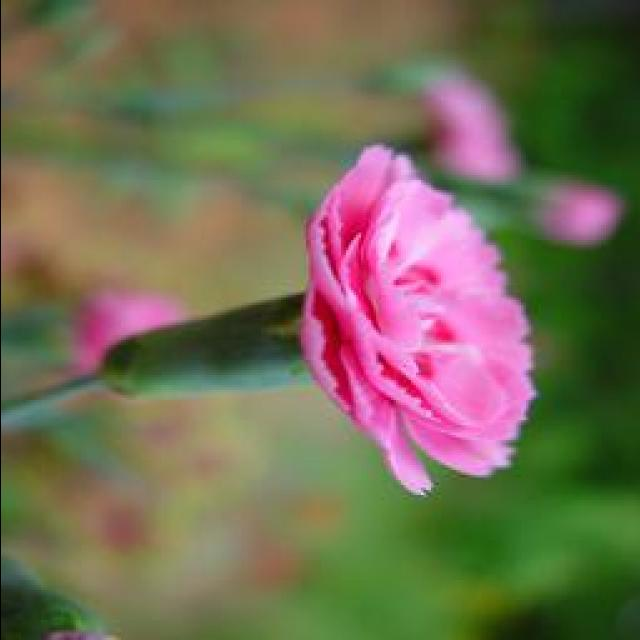carnation: (180, 136, 560, 507)
